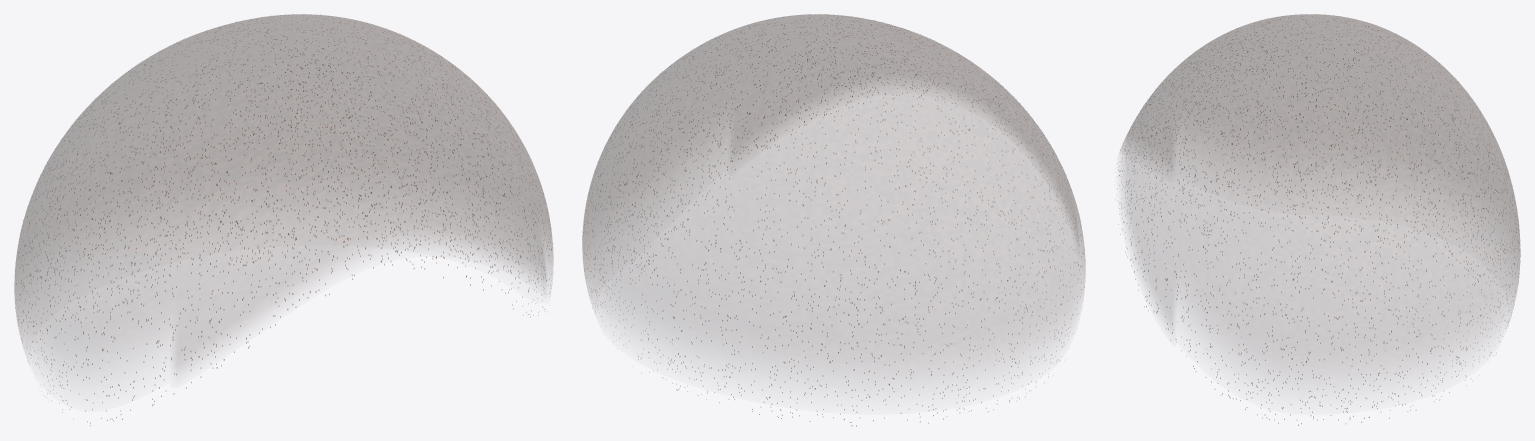
Rendered from Masculine-buzz-hair.glb.
3 renders of one model, left to right at view 1: azimuth 30°, elevation 25°; view 2: azimuth 150°, elevation 25°; view 3: azimuth 270°, elevation 25°, orthographic. The views are drawn at different scales.
Visible parts, largest first — view 1: 226 hair / Hair / neutral coverage235, 226 hair / Hair / cut grain235; view 2: 226 hair / Hair / neutral coverage235, 226 hair / Hair / cut grain235; view 3: 226 hair / Hair / neutral coverage235, 226 hair / Hair / cut grain235.
Part boxes in pixels (x1,y1,x2,y2): 226 hair / Hair / neutral coverage235: (14,14,553,366); 226 hair / Hair / cut grain235: (18,14,551,425); 226 hair / Hair / neutral coverage235: (582,14,1085,369); 226 hair / Hair / cut grain235: (584,14,1085,426); 226 hair / Hair / neutral coverage235: (1121,14,1520,371); 226 hair / Hair / cut grain235: (1118,17,1520,425).
Bounding box in the file's own units: 0.9616 × 0.6213 × 0.7845.
2 materials, 1 textured.
